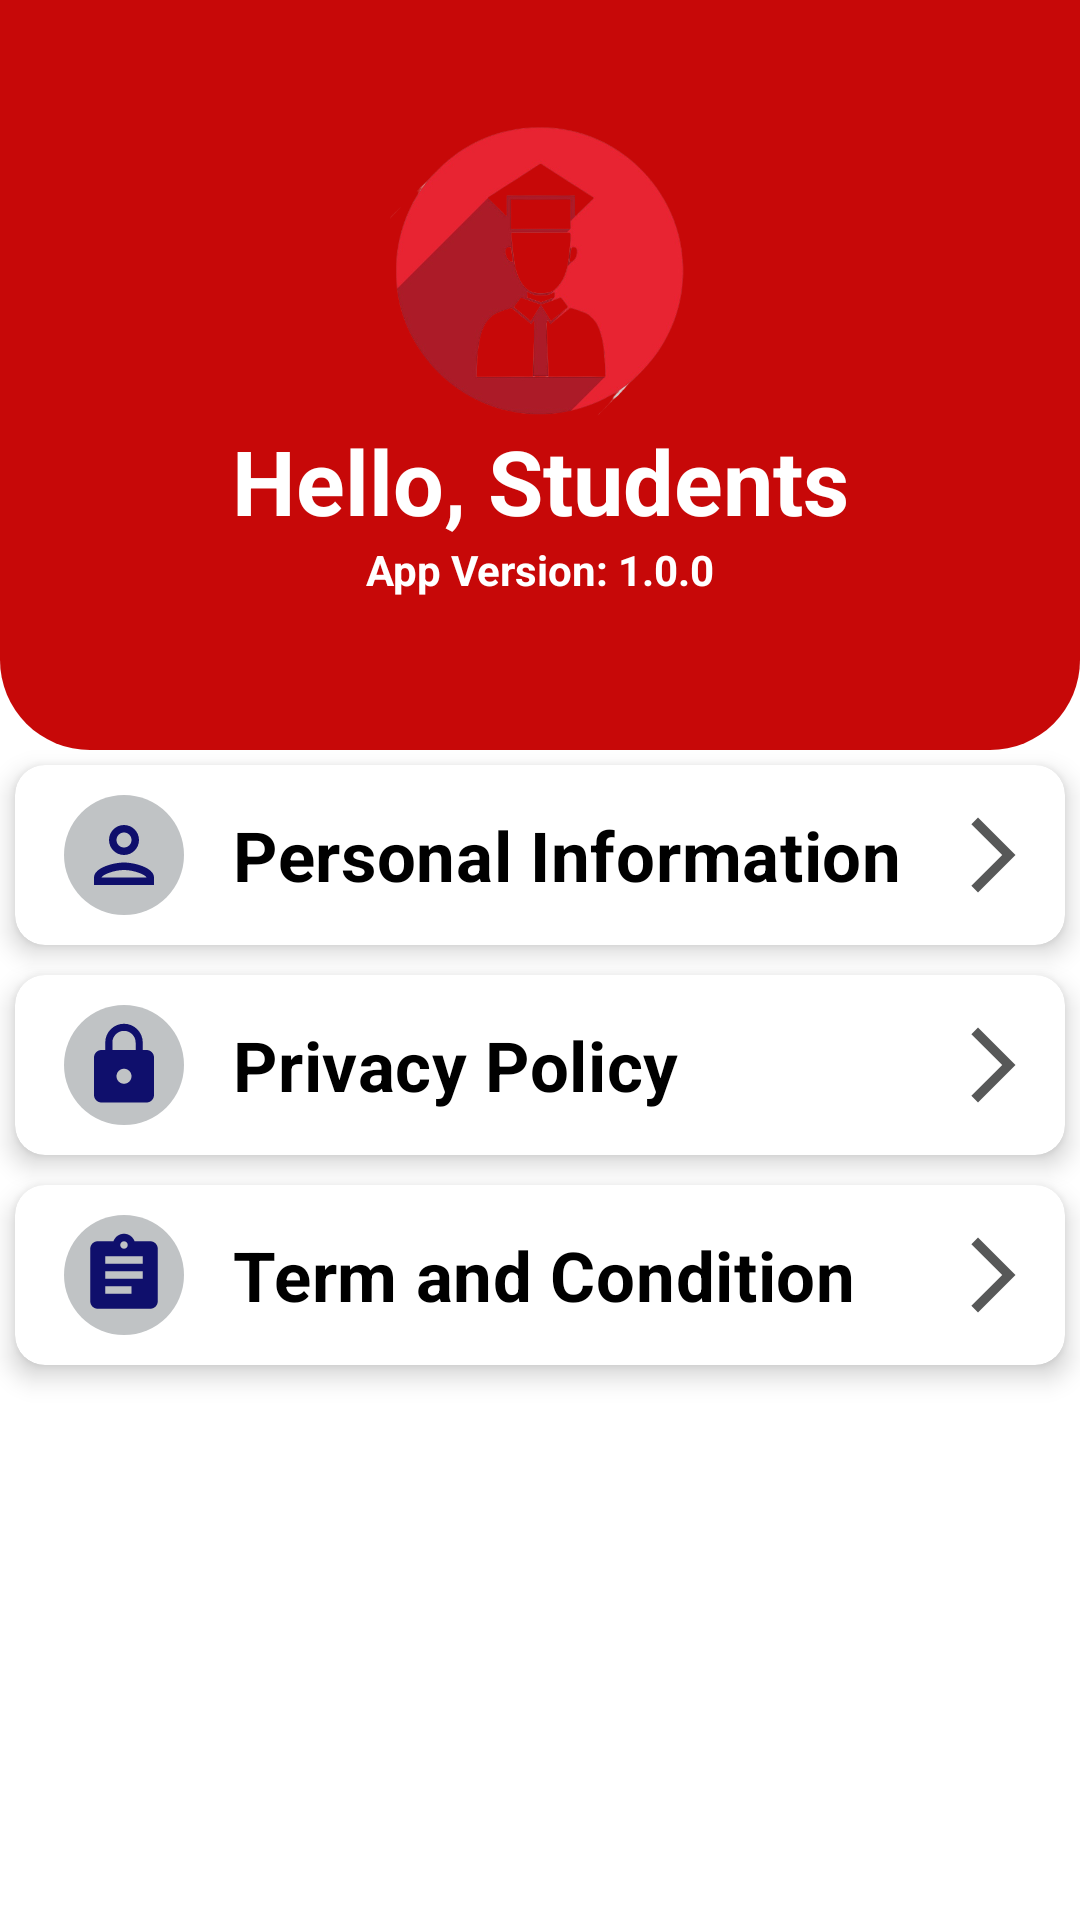

Where to tap for icons on this 1080px x 1920px app screen, as point (x, y):
forward arrow: point (993, 855), point (993, 1065), point (993, 1275)
